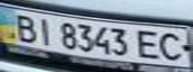3: (109, 25, 133, 57), (75, 23, 93, 53)
4: (90, 24, 112, 56)
8: (54, 19, 78, 51)
B: (9, 11, 42, 43)
C: (154, 30, 190, 62)
E: (133, 28, 163, 61)
I: (33, 16, 60, 46)
